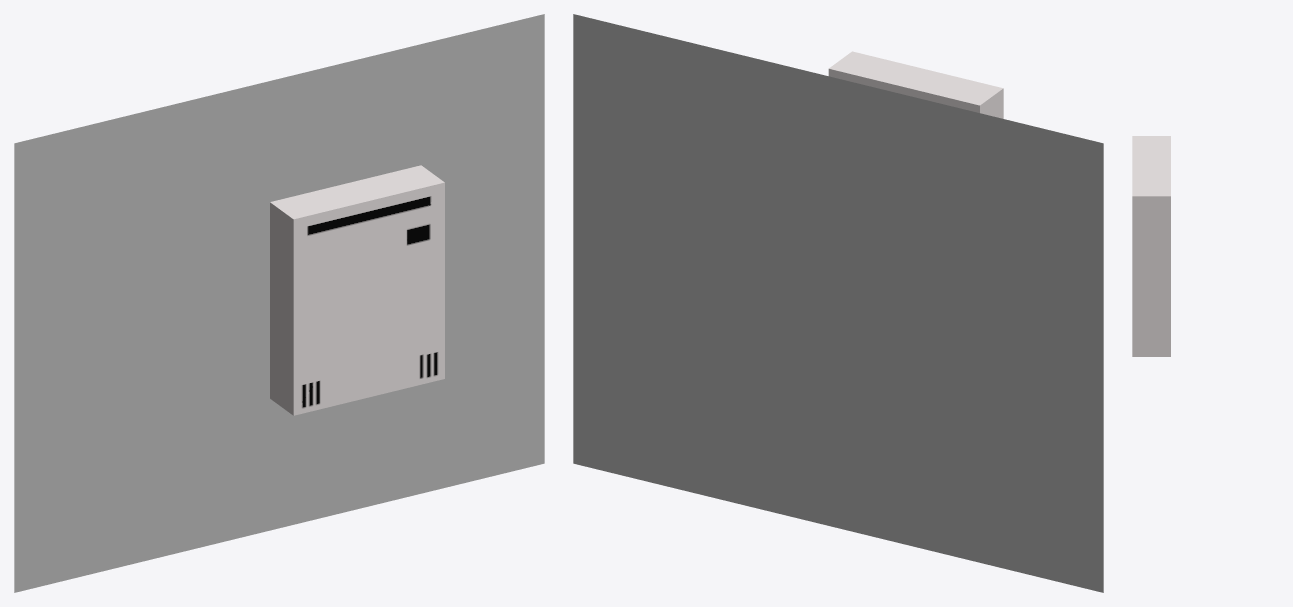
Rendered from sample2.glb.
3 views of the same model, side by side, from view 1: azimuth 30°, elevation 25°; view 2: azimuth 150°, elevation 25°; view 3: azimuth 270°, elevation 25° (orthographic). The views are drawn at different scales.
Visible parts, largest first — view 1: mesh_id1, mesh_id27; view 2: mesh_id1, mesh_id27; view 3: mesh_id27.
Part boxes in pixels (left/top/right/bottom): mesh_id1: left=14, top=14, right=544, bottom=592; mesh_id27: left=270, top=165, right=444, bottom=415; mesh_id1: left=573, top=14, right=1103, bottom=592; mesh_id27: left=828, top=51, right=1003, bottom=118; mesh_id27: left=1132, top=136, right=1170, bottom=356.
Bounding box in the file's own units: 0.696 × 0.564 × 0.2037.
Materials: 2 (2 with a texture image).
